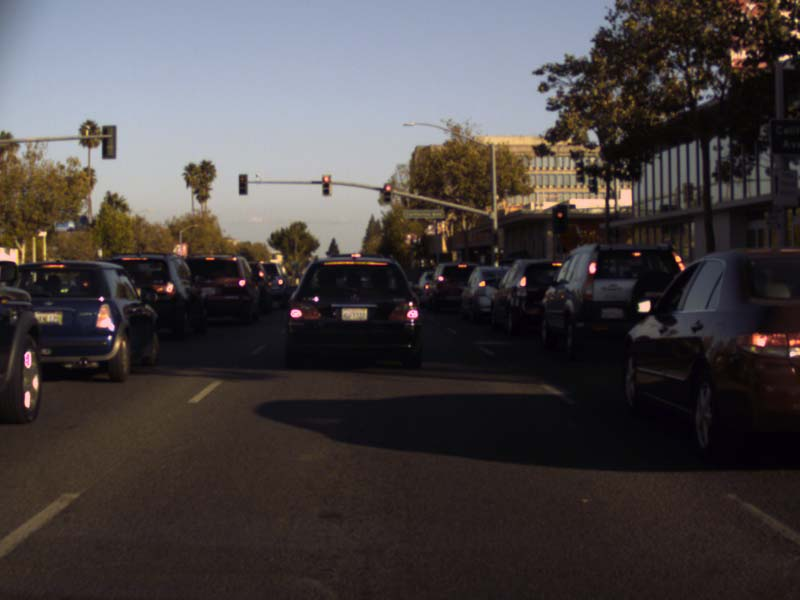Red: (554, 205, 565, 231), (491, 229, 503, 247), (238, 174, 247, 194), (322, 175, 330, 196), (384, 183, 390, 201)
